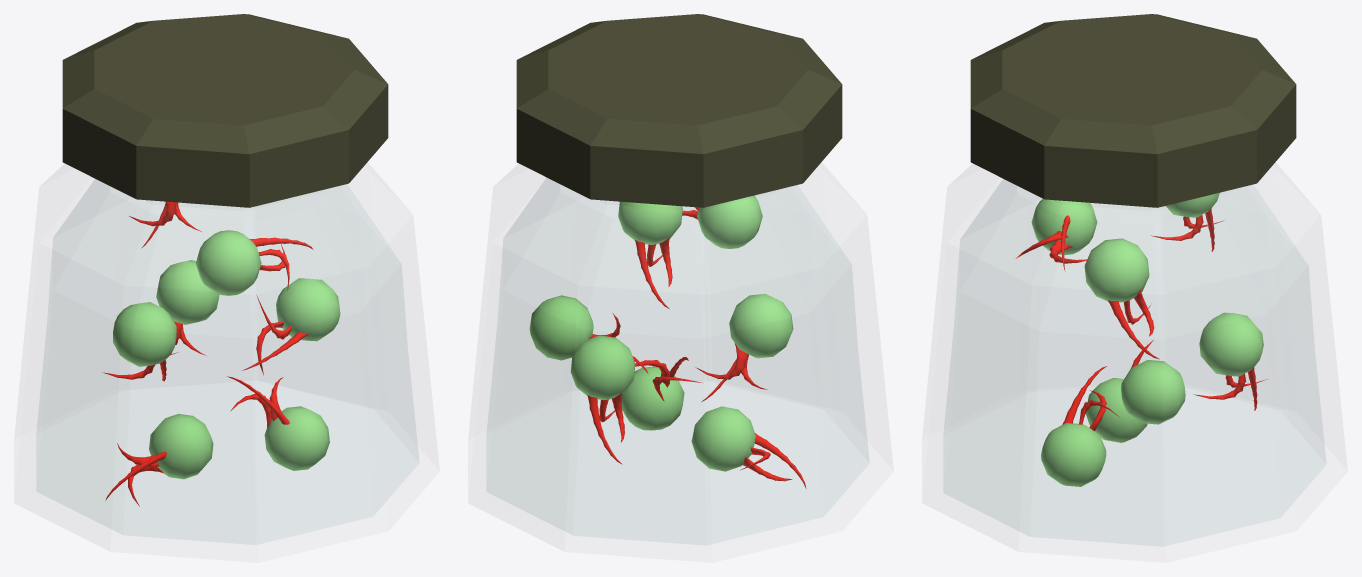
File: EyeJar.fbx
3 views of the same model, side by side, from view 1: azimuth 30°, elevation 25°; view 2: azimuth 150°, elevation 25°; view 3: azimuth 270°, elevation 25° (orthographic).
Visible parts, largest first — view 1: JarofEyes; view 2: JarofEyes; view 3: JarofEyes.
Part boxes in pixels (left/top/right/bottom): JarofEyes: left=36, top=14, right=419, bottom=545; JarofEyes: left=486, top=14, right=869, bottom=545; JarofEyes: left=943, top=14, right=1326, bottom=546.
Size of the model in its own units: 115 by 118 by 114.
